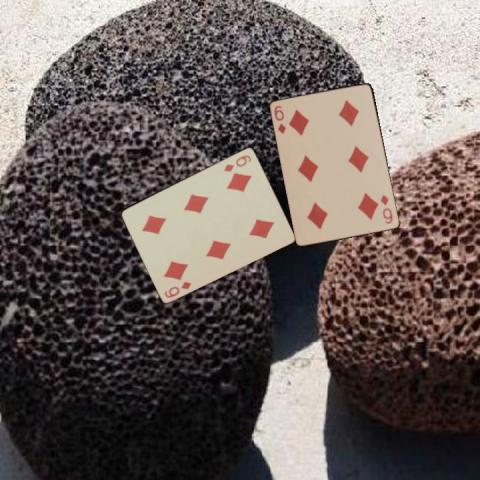6d: (221, 152, 253, 174), (161, 278, 193, 299), (271, 103, 288, 135), (378, 192, 394, 225)
